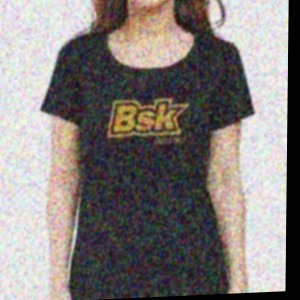bershka: (132, 37, 244, 153)
